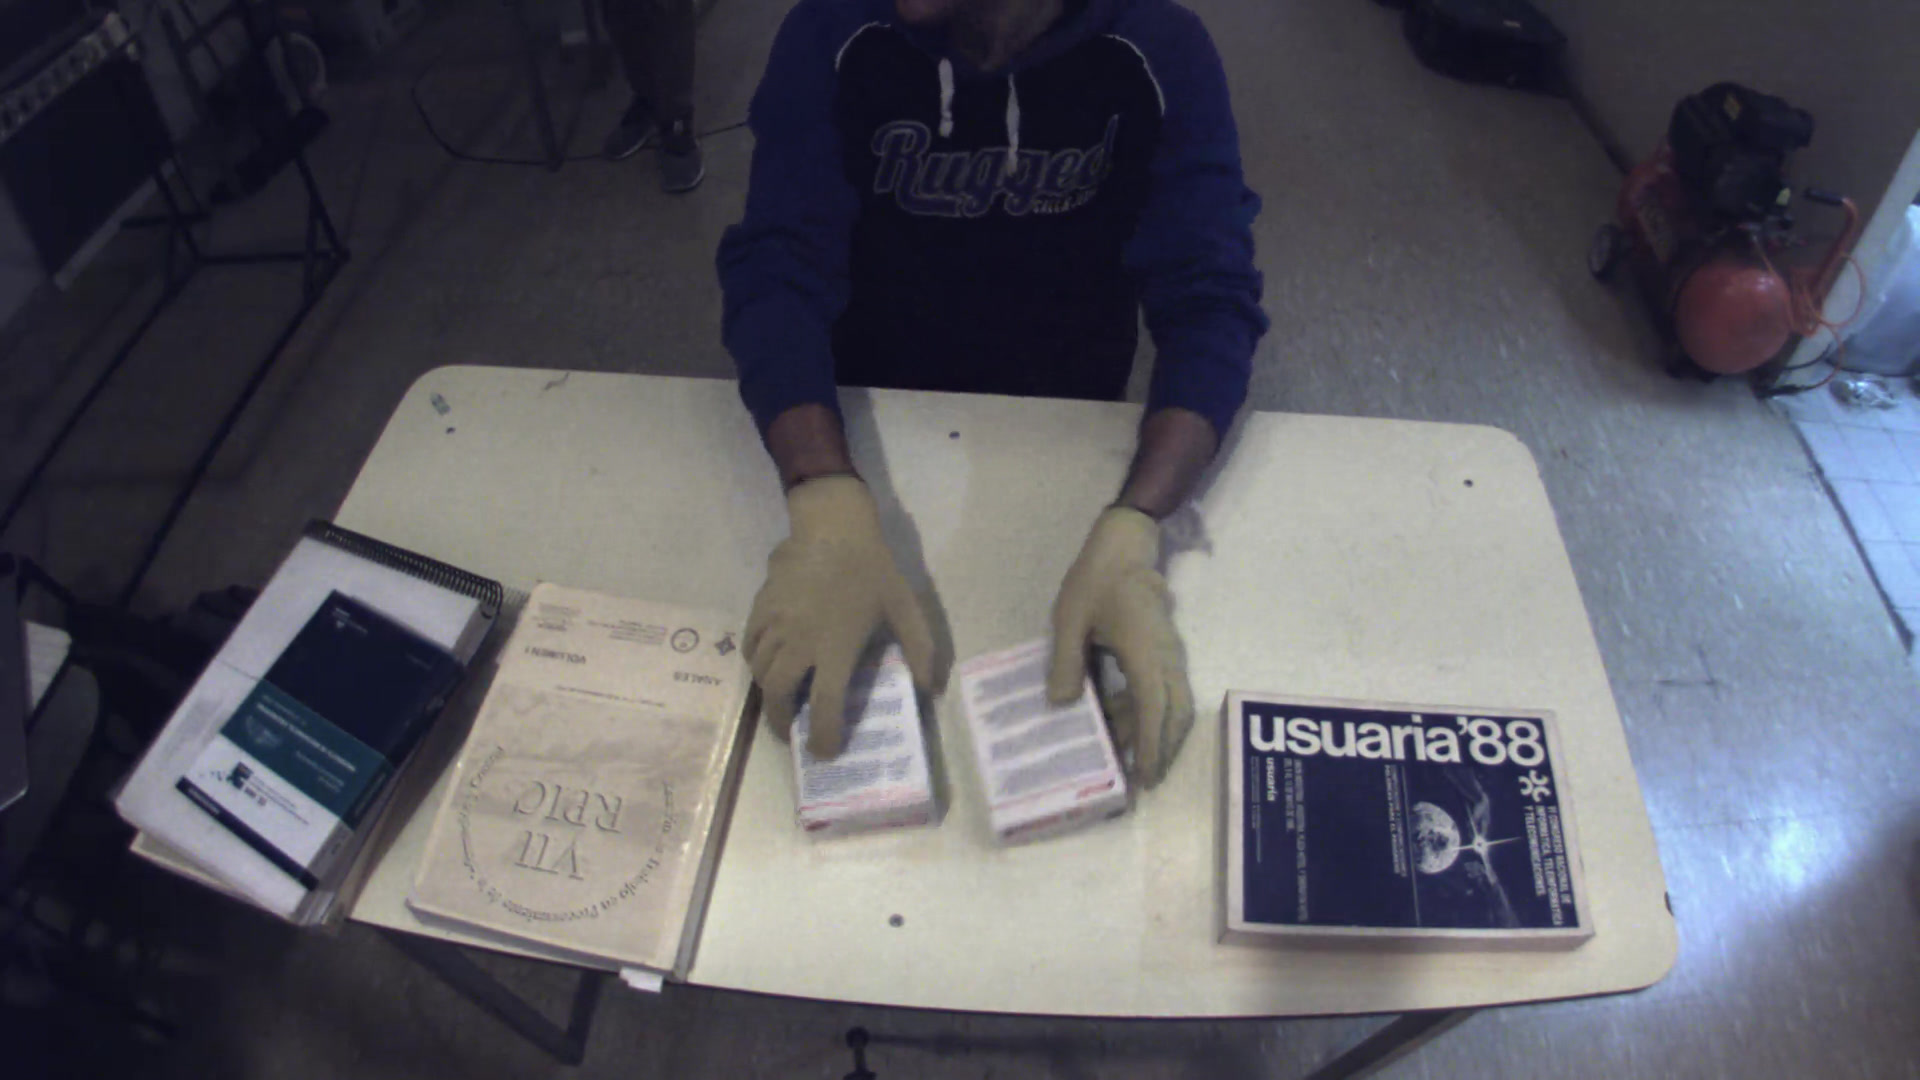hand: (725, 471, 930, 765), (1034, 500, 1208, 796)
